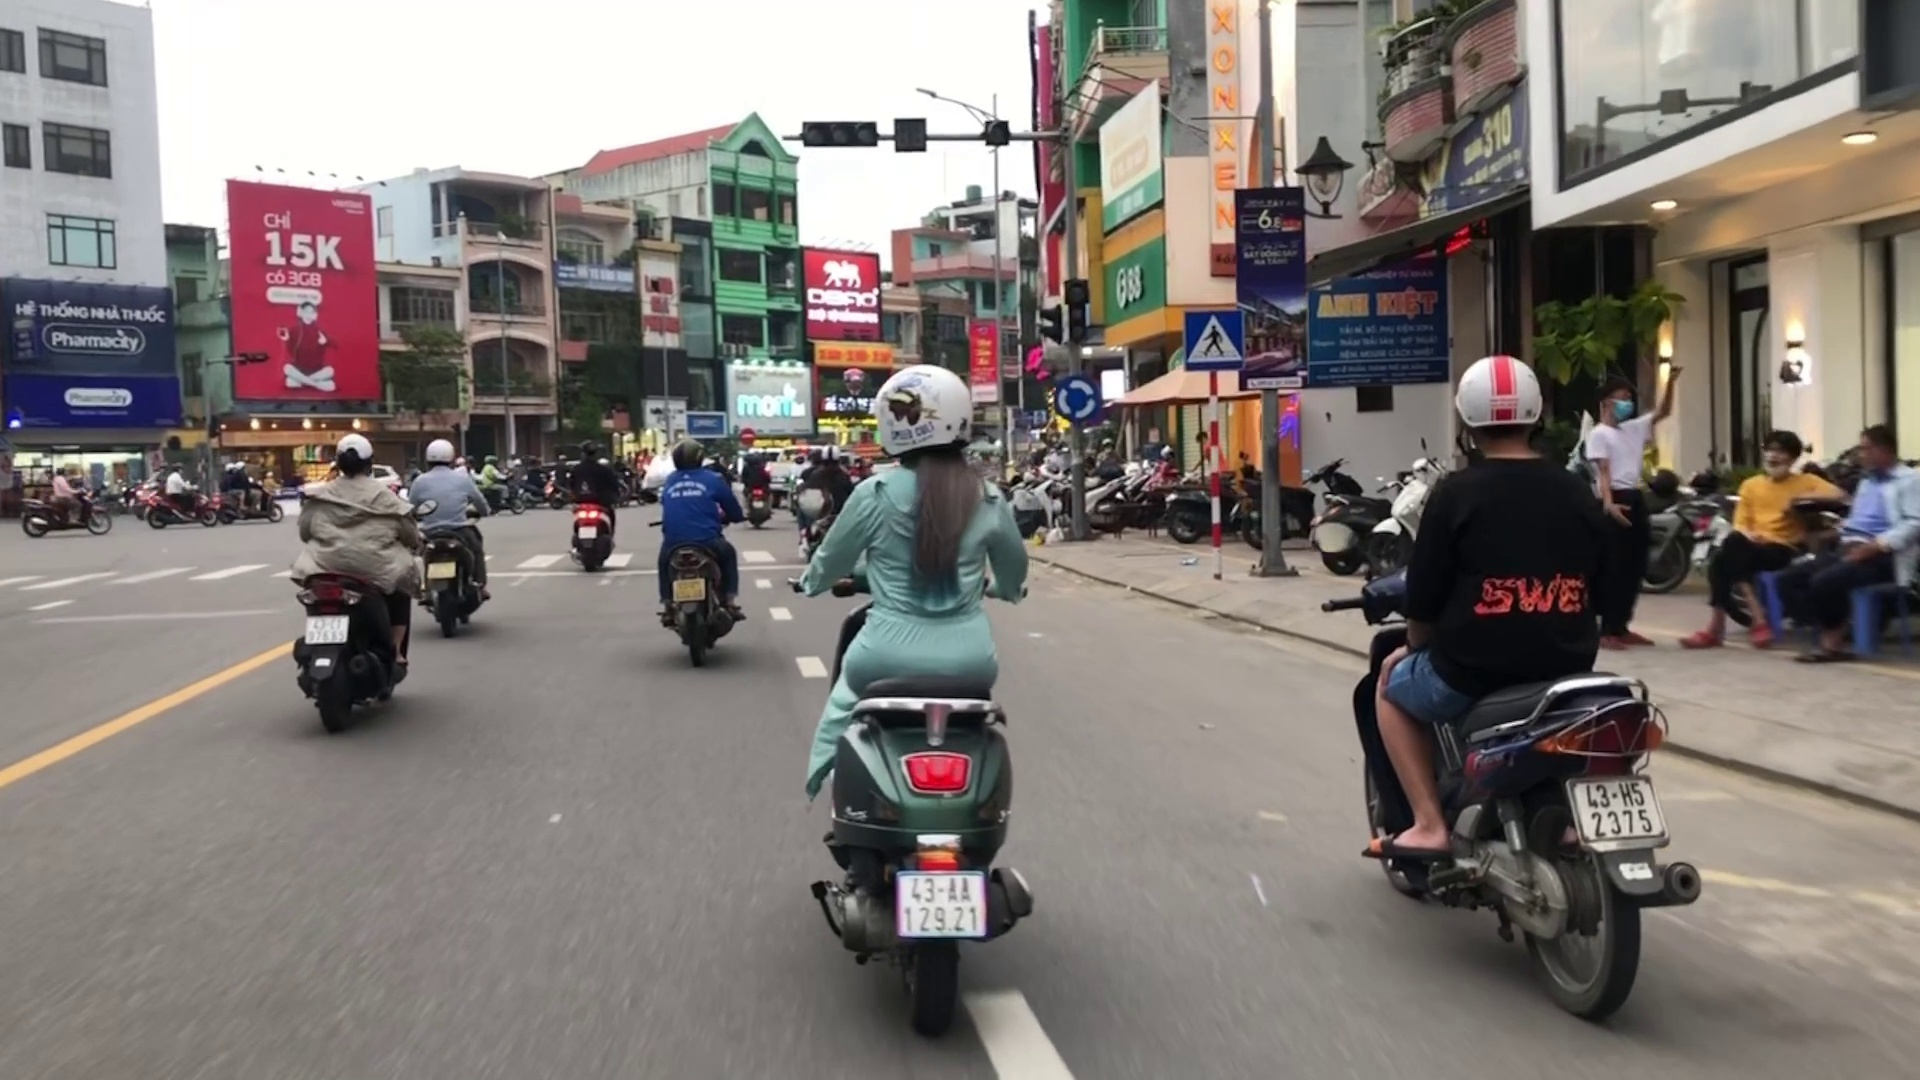Bien khac: (1052, 373, 1097, 419)
Cam di nguoc chieu: (738, 429, 753, 444)
Nguoi di bo: (1182, 313, 1242, 371)
